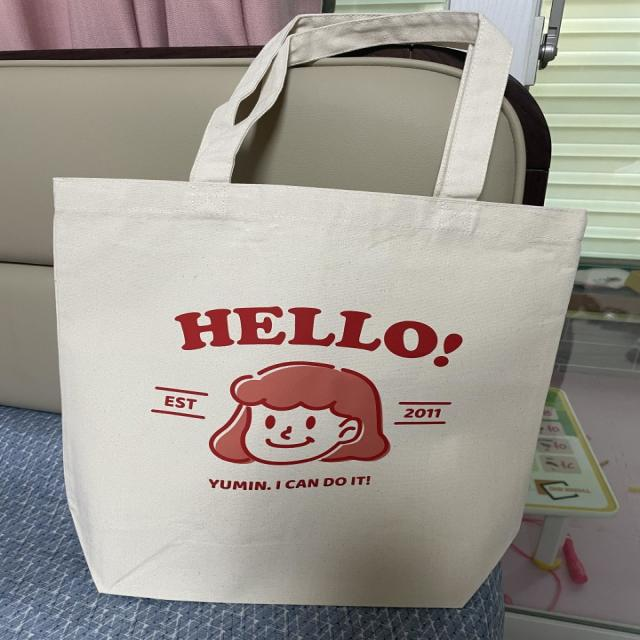ecobag: (17, 17, 589, 610)
